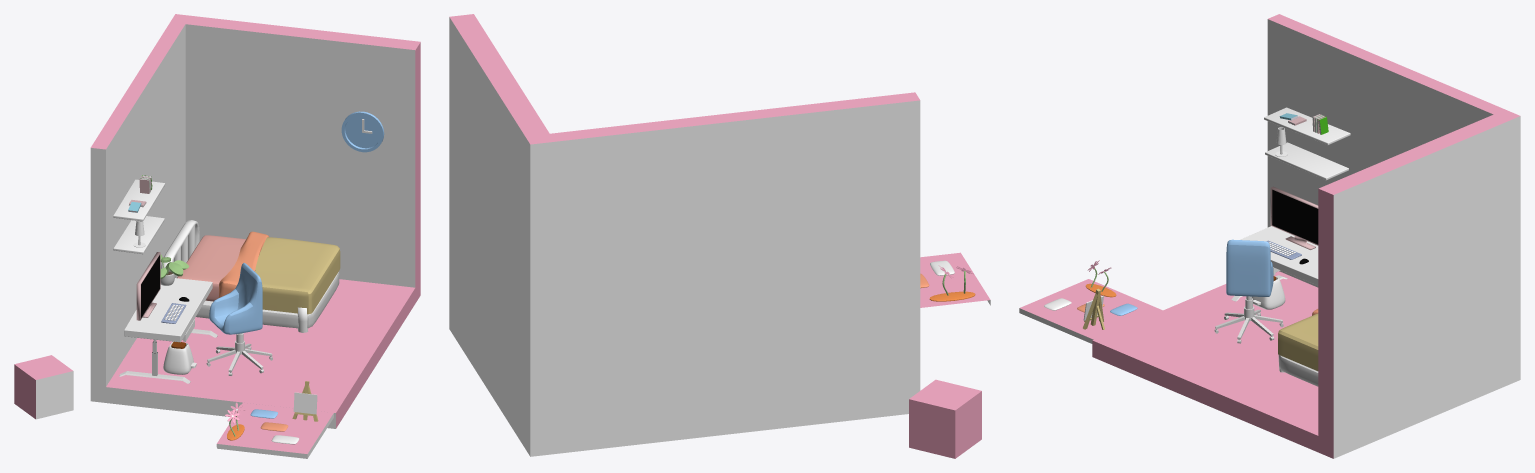
File: room.glb
3 views of the same model, side by side, from view 1: azimuth 30°, elevation 25°; view 2: azimuth 150°, elevation 25°; view 3: azimuth 270°, elevation 25° (orthographic). The views are drawn at different scales.
Visible parts, largest first — view 1: Room, Bed bottom3, Dupe_floor, Table, Cube, Chair top, Bed bottom2, Clock face, Bed bottom1, Bed foot, Desk2, Desk1 (+6 smaller); view 2: Room, Cube, Dupe_floor; view 3: Room, Dupe_floor, Chair top, Table, Bed bottom3, Computer screen, Desk1, Desk2, Chair bottom, Bed bottom1, Computer, Trash.
Boxes of the visible parts, x1,y1,x2,y2 form: Room: (90,14,420,428); Bed bottom3: (218,231,340,314); Dupe_floor: (216,402,333,458); Table: (119,278,217,383); Cube: (14,355,73,419); Chair top: (209,263,262,334); Bed bottom2: (177,235,245,301); Clock face: (341,111,384,152); Bed bottom1: (196,272,339,328); Bed foot: (161,220,308,332); Desk2: (113,179,165,221); Desk1: (113,216,164,254); Room: (449,14,920,456); Cube: (909,379,981,458); Dupe_floor: (920,252,990,307); Room: (1092,14,1520,458); Dupe_floor: (1019,279,1162,343); Chair top: (1226,239,1273,296); Table: (1231,226,1318,301); Bed bottom3: (1278,309,1318,371); Computer screen: (1272,190,1318,244); Desk1: (1265,142,1348,180); Desk2: (1264,107,1350,145); Chair bottom: (1214,296,1283,343); Bed bottom1: (1279,355,1318,386); Computer: (1270,186,1318,249); Trash: (1252,276,1285,309).
Bounding box in the file's own units: 21.72 × 13.24 × 22.17.
